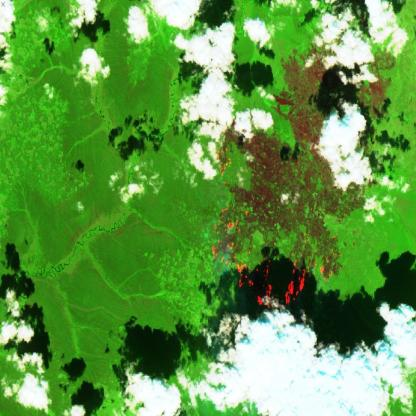fire: (207, 201, 336, 308), (213, 134, 236, 184)
